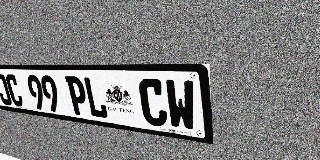9: (39, 75, 62, 113), (25, 75, 47, 110)
C: (138, 78, 168, 128), (4, 74, 24, 107)
J: (0, 74, 13, 106)
L: (83, 77, 109, 119)
P: (65, 76, 90, 117)
W: (164, 79, 197, 132)
